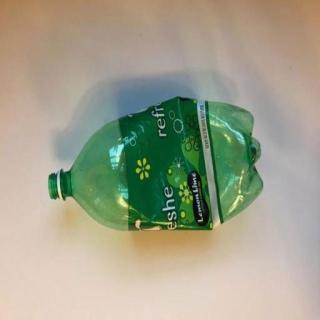Plastic-bottle: (48, 96, 264, 232)
